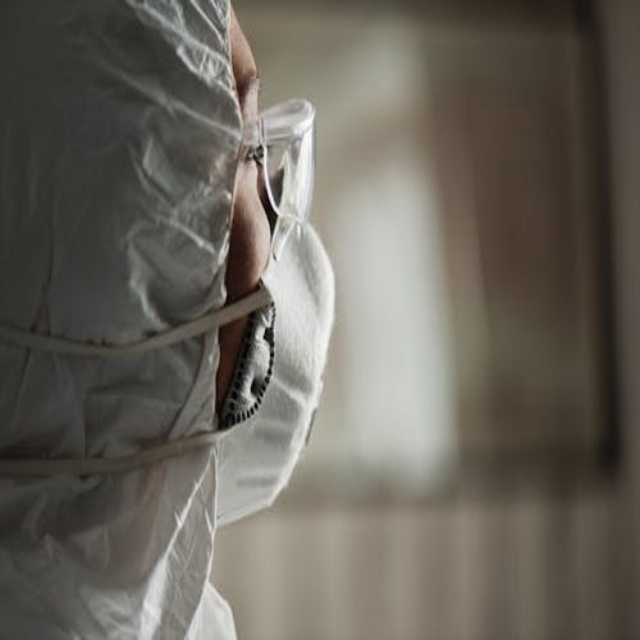Gafas: (189, 84, 329, 224)
Mascara: (187, 192, 346, 538)
